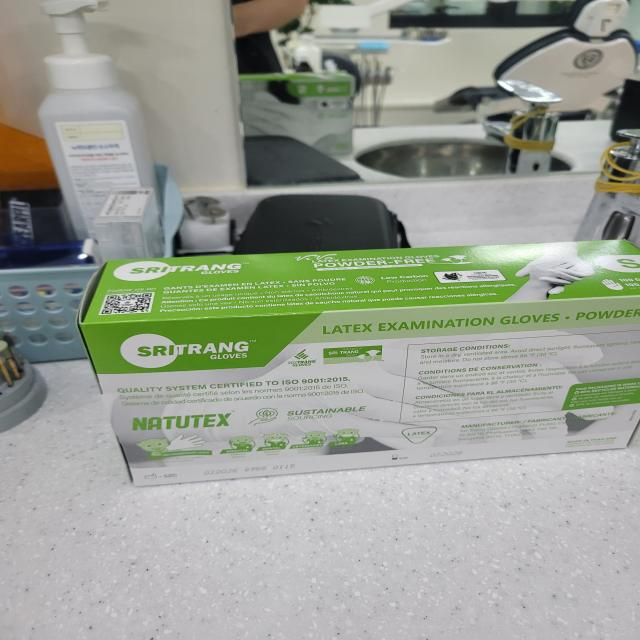glove: (42, 225, 640, 489)
